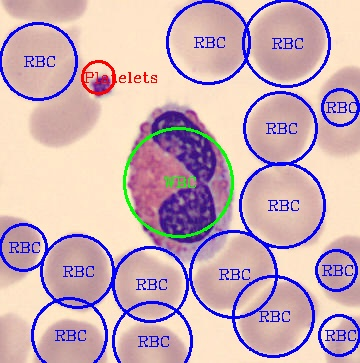Platelets: (85, 71, 116, 101)
RBC: (241, 164, 329, 252), (192, 230, 278, 313), (27, 57, 102, 152), (0, 23, 85, 103), (237, 277, 320, 358), (167, 1, 250, 81), (251, 1, 329, 84), (41, 230, 111, 313), (244, 87, 313, 168), (113, 246, 185, 321), (315, 64, 358, 162), (32, 315, 110, 361), (316, 232, 359, 308), (0, 213, 43, 288), (116, 320, 192, 361)
WBC: (126, 101, 237, 264)
